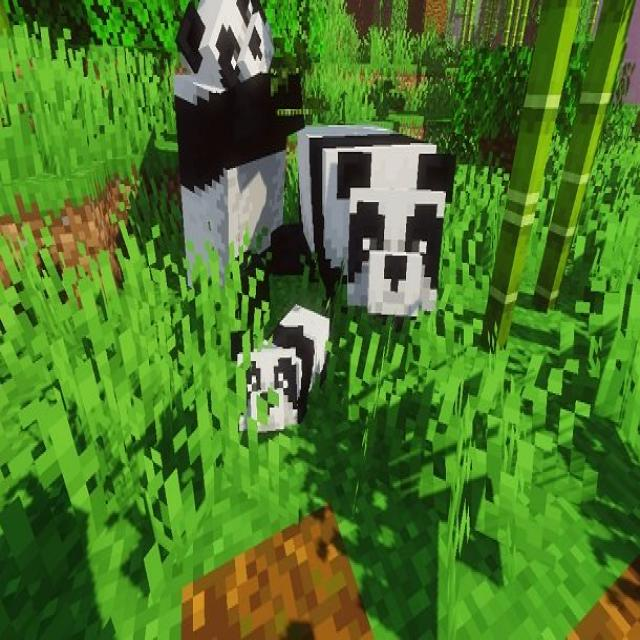Panda: (172, 2, 307, 318), (295, 124, 456, 324), (235, 302, 333, 435)
